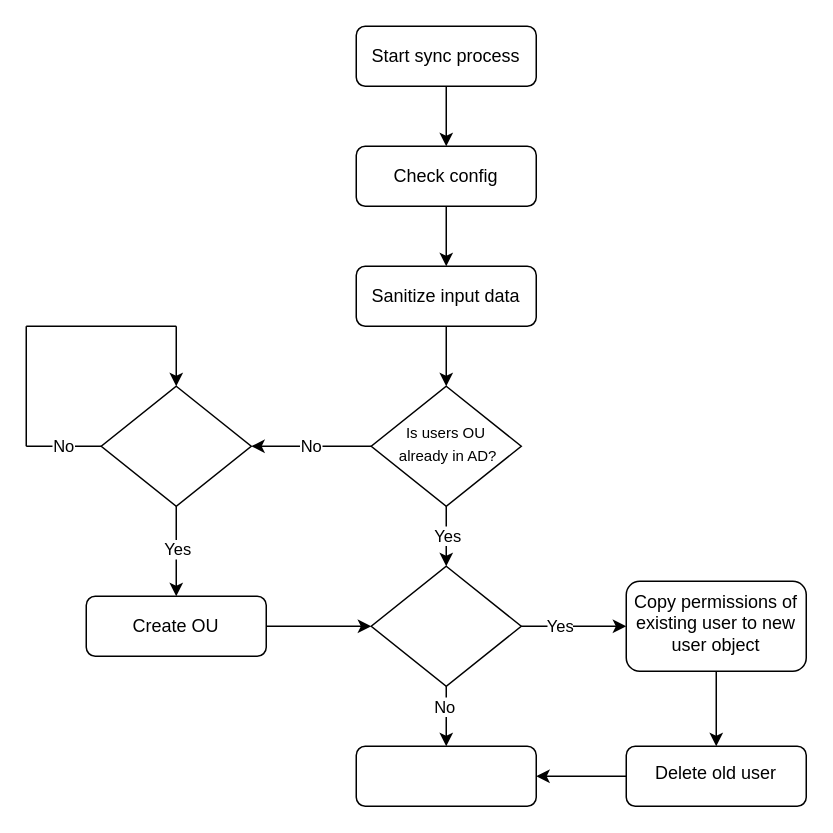
This 833x833 diagram has some shape labels left out. The shapes that lost their labels are listed below. From the top down, each one's centre as x and y in pixels, then its label:
At (x=175, y=445): "Is OU'S parent OU already in AD?".
At (x=445, y=625): "Is user already in AD?".
At (x=445, y=775): "Create user".
